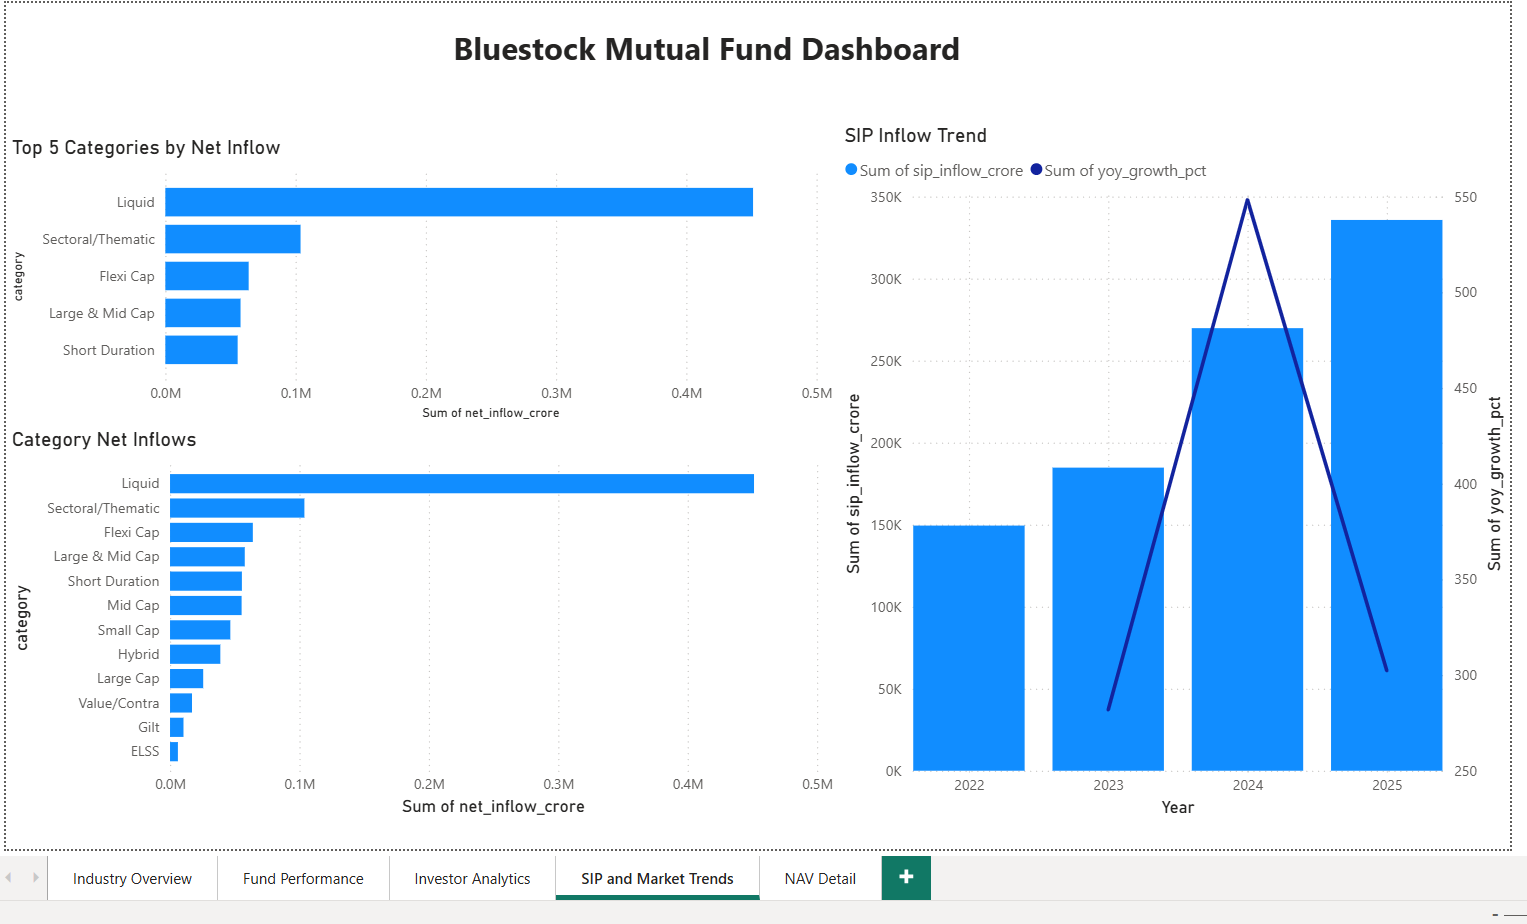

Layout of this report page (visuals, bound fields, positions):
{"tool":"powerbi","page":{"name":"SIP and Market Trends","canvas":[1280,720],"ordinal":3},"visuals":[{"type":"lineClusteredColumnComboChart","title":"SIP Inflow Trend","fields":{"Category":["04_monthly_sip_inflows_cleaned.month.Variation.Date Hierarchy.Year","04_monthly_sip_inflows_cleaned.month.Variation.Date Hierarchy.Quarter","04_monthly_sip_inflows_cleaned.month.Variation.Date Hierarchy.Month","04_monthly_sip_inflows_cleaned.month.Variation.Date Hierarchy.Day"],"Y":["Sum(04_monthly_sip_inflows_cleaned.sip_inflow_crore)"],"Y2":["Sum(04_monthly_sip_inflows_cleaned.yoy_growth_pct)"]},"box":[709,102,571,595],"z":0},{"type":"clusteredBarChart","title":"Category Net Inflows","fields":{"Category":["05_category_inflows_cleaned.category"],"Y":["Sum(05_category_inflows_cleaned.net_inflow_crore)"]},"box":[0,360.3,709.5,336.3],"z":1000},{"type":"clusteredBarChart","title":"Top 5 Categories by Net Inflow","fields":{"Category":["05_category_inflows_cleaned.category"],"Y":["Sum(05_category_inflows_cleaned.net_inflow_crore)"]},"box":[0,113,709,247],"z":2000},{"type":"textbox","box":[333,15,527,77],"z":2001}]}

Visuals, with their boxes on the page's 1280x720 design canvas (x1, y1, x2, y2). These are canvas units, not pixel positions in the 1527x924 screenshot, which may show the page scaled, cropped or inside an application window:
"SIP Inflow Trend" lineClusteredColumnComboChart: (x1=709, y1=102, x2=1280, y2=697)
"Category Net Inflows" clusteredBarChart: (x1=0, y1=360, x2=710, y2=697)
"Top 5 Categories by Net Inflow" clusteredBarChart: (x1=0, y1=113, x2=709, y2=360)
textbox: (x1=333, y1=15, x2=860, y2=92)
